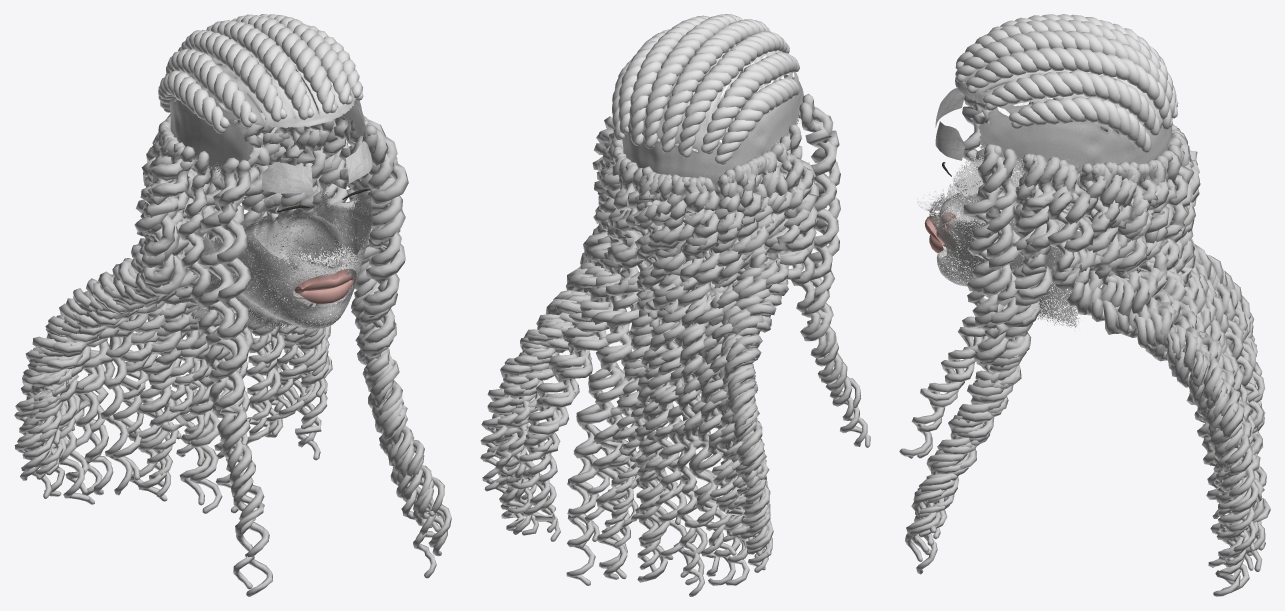
File: NC_Head_Male_Hair2.fbx
3 views of the same model, side by side, from view 1: azimuth 30°, elevation 25°; view 2: azimuth 150°, elevation 25°; view 3: azimuth 270°, elevation 25° (orthographic). The views are drawn at different scales.
Visible parts, largest first — view 1: Hair_LongCurls_Cap_6, Hair_LongCurls_Cap_4, Hair_LongCurls_Cap_7, Hair_LongCurls_Cap_3, Hair_FlatTwists, StubbleHeavy, Hair_LongCurls_Cap_5, Hair_FlatTwists_2, Stubble, Hair_LongCurls_Cap_8, Lips, Brows_Straight (+2 smaller); view 2: Hair_LongCurls_Cap_4, Hair_LongCurls_Cap_6, Hair_LongCurls_Cap_3, Hair_LongCurls_Cap_5, Hair_FlatTwists, Hair_LongCurls_Cap_7, Hair_FlatTwists_2, Hair_LongCurls_Cap_8; view 3: Hair_LongCurls_Cap_6, Hair_FlatTwists_2, Hair_LongCurls_Cap_7, Hair_LongCurls_Cap_4, Hair_LongCurls_Cap_5, Hair_FlatTwists, Hair_LongCurls_Cap_3, StubbleHeavy, Hair_LongCurls_Cap_8, Stubble, Lips, Brows_Thick.
Part boxes in pixels (x1,y1,x2,y2): Hair_LongCurls_Cap_6: [17, 102, 444, 547]; Hair_LongCurls_Cap_4: [14, 109, 356, 596]; Hair_LongCurls_Cap_7: [14, 115, 451, 589]; Hair_LongCurls_Cap_3: [19, 111, 444, 515]; Hair_FlatTwists: [158, 30, 367, 175]; StubbleHeavy: [188, 167, 373, 330]; Hair_LongCurls_Cap_5: [30, 107, 432, 528]; Hair_FlatTwists_2: [206, 14, 363, 120]; Stubble: [196, 176, 370, 329]; Hair_LongCurls_Cap_8: [26, 117, 435, 537]; Lips: [292, 266, 353, 303]; Brows_Straight: [262, 153, 372, 193]; Hair_LongCurls_Cap_4: [480, 93, 870, 585]; Hair_LongCurls_Cap_6: [493, 102, 860, 596]; Hair_LongCurls_Cap_3: [501, 95, 789, 585]; Hair_LongCurls_Cap_5: [494, 116, 817, 569]; Hair_FlatTwists: [622, 31, 802, 191]; Hair_LongCurls_Cap_7: [487, 87, 867, 585]; Hair_FlatTwists_2: [612, 14, 770, 152]; Hair_LongCurls_Cap_8: [480, 137, 772, 555]; Hair_LongCurls_Cap_6: [910, 86, 1270, 571]; Hair_FlatTwists_2: [955, 19, 1178, 152]; Hair_LongCurls_Cap_7: [905, 101, 1261, 584]; Hair_LongCurls_Cap_4: [899, 90, 1261, 564]; Hair_LongCurls_Cap_5: [933, 125, 1265, 596]; Hair_FlatTwists: [955, 14, 1172, 175]; Hair_LongCurls_Cap_3: [911, 100, 1262, 591]; StubbleHeavy: [917, 152, 1081, 327]; Hair_LongCurls_Cap_8: [914, 159, 1255, 551]; Stubble: [930, 160, 1079, 309]; Lips: [924, 212, 956, 252]; Brows_Thick: [935, 91, 964, 157].
Bounding box in the file's own units: 1.19 × 2 × 1.24.
7 materials, 5 textured.
